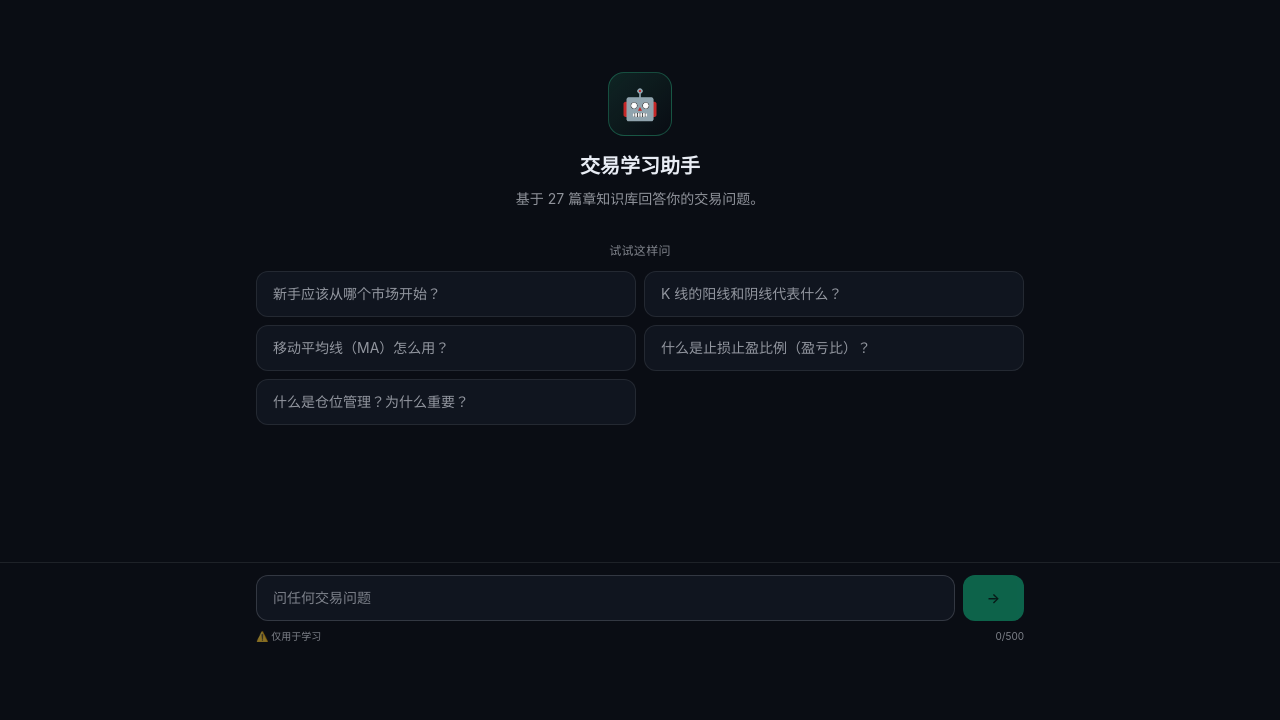
AiChat 空状态与首屏示例问题 › 点击示例即发送：用户消息出现在对话区，空状态消失
Click the button "新手应该从哪个市场开始？": (357, 293) [256, 271, 636, 317]
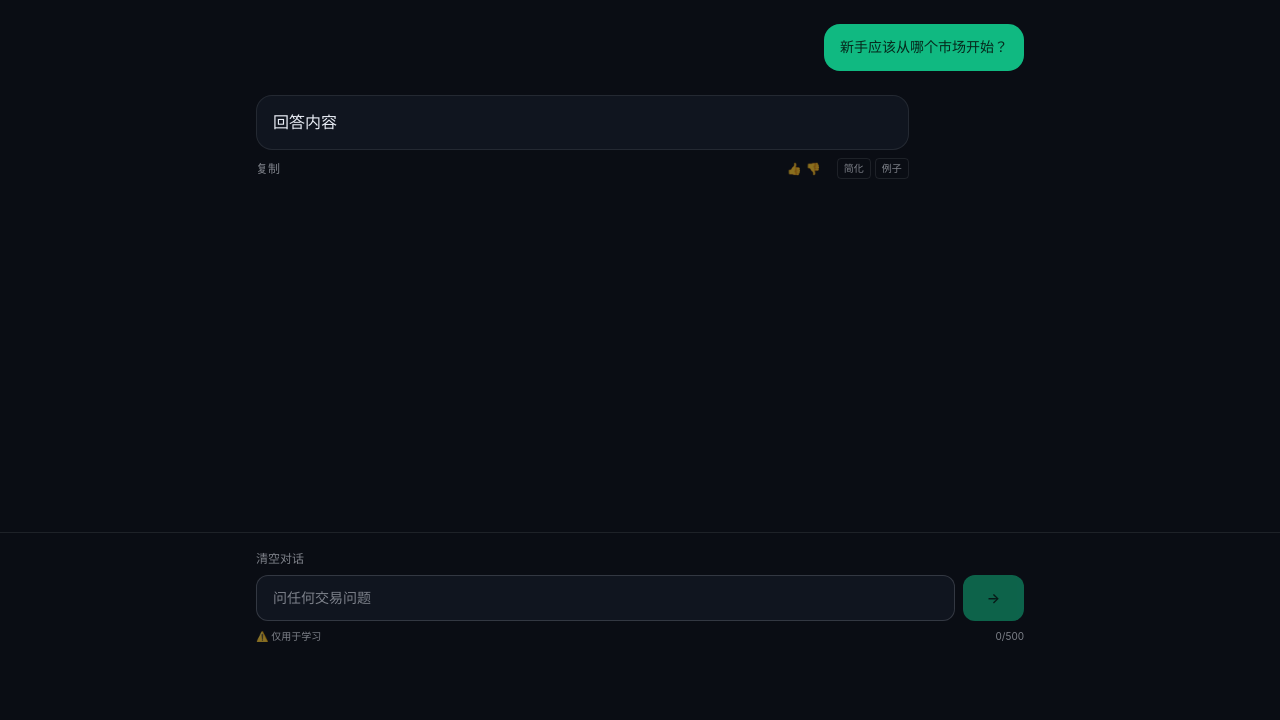
Check: the text "新手应该从哪个市场开始？" is shown, box [840, 36, 1008, 59]
Check: the text "试试这样问" is gone
